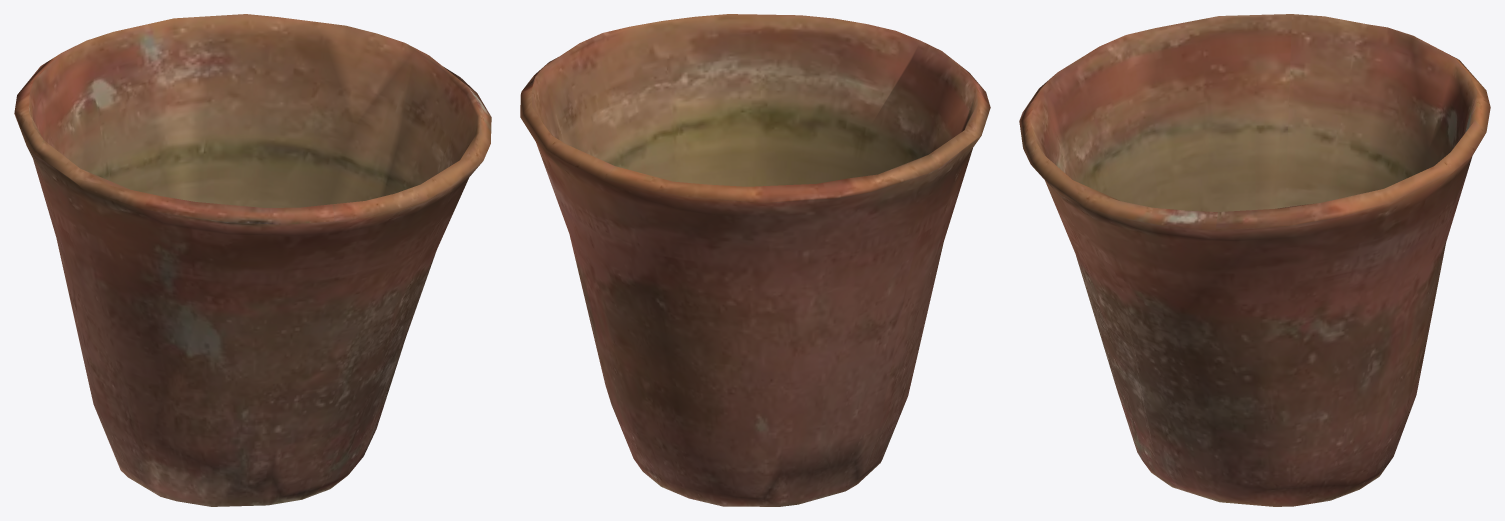
The model's file is clay-pot.glb.
The picture shows the model from 3 angles, left to right: view 1: azimuth 30°, elevation 25°; view 2: azimuth 150°, elevation 25°; view 3: azimuth 270°, elevation 25°; orthographic projection.
Parts seen in each view (by area): view 1: planter_pot_clay; view 2: planter_pot_clay; view 3: planter_pot_clay.
Part boxes in pixels (left/top/right/bottom): planter_pot_clay: left=14, top=14, right=491, bottom=506; planter_pot_clay: left=520, top=14, right=990, bottom=506; planter_pot_clay: left=1019, top=14, right=1490, bottom=506.
Size of the model in its own units: 0.2644 by 0.2218 by 0.2634.
1 material, 1 textured.
